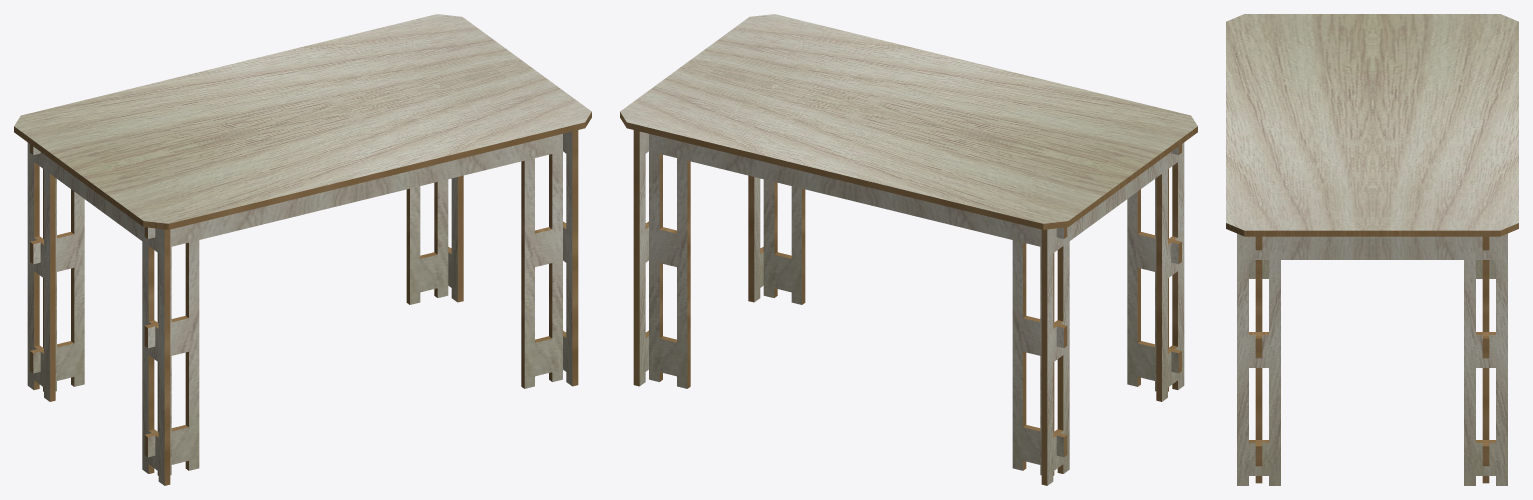
The model's file is NODO_MESA_COMEDOR_PORTICO_KIRI_UV_LIMPIO_V2.glb.
3 renders of one model, left to right at view 1: azimuth 30°, elevation 25°; view 2: azimuth 150°, elevation 25°; view 3: azimuth 270°, elevation 25°, orthographic.
Parts seen in each view (by area): view 1: top_faces_8, long_faces_4, short_faces_2, long_faces_6, short_edge_3, top_edge_9, long_edge_5, short_faces_0, short_edge_1, long_edge_7; view 2: top_faces_8, long_faces_6, short_faces_2, long_faces_4, short_edge_3, top_edge_9, long_edge_7, short_faces_0, short_edge_1, long_edge_5; view 3: top_faces_8, short_faces_0, top_edge_9, long_edge_5, long_edge_7, short_faces_2.
Part boxes in pixels (bbox=[...]): top_faces_8: bbox=[14, 14, 591, 223]; long_faces_4: bbox=[148, 134, 562, 475]; short_faces_2: bbox=[27, 142, 164, 485]; long_faces_6: bbox=[33, 146, 448, 391]; short_edge_3: bbox=[34, 162, 170, 485]; top_edge_9: bbox=[14, 112, 591, 229]; long_edge_5: bbox=[144, 154, 566, 475]; short_faces_0: bbox=[448, 131, 572, 385]; short_edge_1: bbox=[448, 130, 578, 386]; long_edge_7: bbox=[30, 144, 451, 391]; top_faces_8: bbox=[620, 14, 1197, 223]; long_faces_6: bbox=[649, 134, 1063, 475]; short_faces_2: bbox=[1047, 142, 1184, 485]; long_faces_4: bbox=[763, 146, 1178, 391]; short_edge_3: bbox=[1041, 162, 1177, 485]; top_edge_9: bbox=[620, 112, 1197, 229]; long_edge_7: bbox=[645, 154, 1067, 475]; short_faces_0: bbox=[639, 131, 763, 385]; short_edge_1: bbox=[633, 130, 763, 386]; long_edge_5: bbox=[760, 144, 1181, 391]; top_faces_8: bbox=[1226, 14, 1518, 230]; short_faces_0: bbox=[1237, 233, 1507, 485]; top_edge_9: bbox=[1226, 223, 1518, 236]; long_edge_5: bbox=[1255, 236, 1262, 483]; long_edge_7: bbox=[1482, 236, 1489, 483]; short_faces_2: bbox=[1249, 260, 1495, 278].
Bounding box in the file's own units: 1.4 × 0.795 × 0.8.
2 materials, 2 textured.
